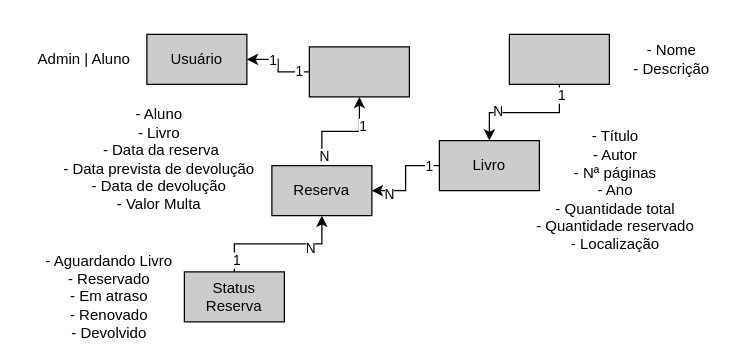
Some shapes in this 755 by 363 pixel diagram are drawn without their labels. Here are the shapes that lost their labels. From the top down, the box of each, then its label:
(308, 46, 409, 97): Aluno
(508, 33, 609, 84): Categoria
